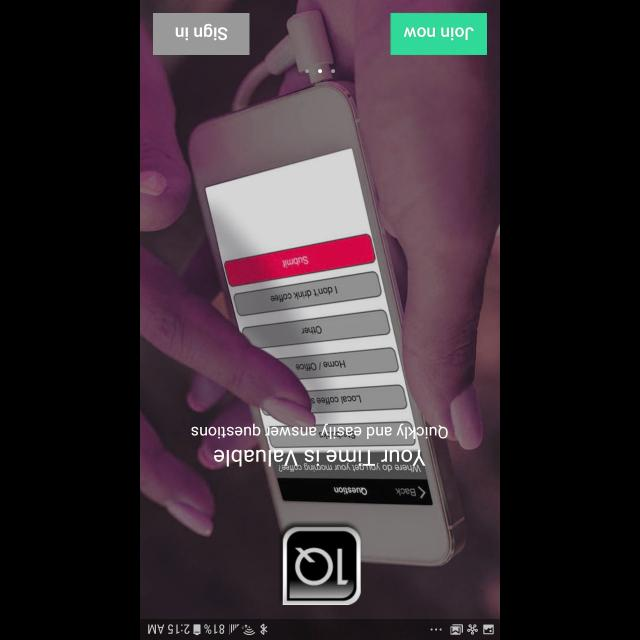backgroundimage: (140, 0, 500, 618)
image: (283, 526, 362, 606)
pageindicator: (304, 68, 336, 74)
text: (192, 422, 448, 466)
textbutton: (389, 12, 486, 56), (153, 13, 249, 55)
uppertaskbar: (140, 618, 500, 640)
